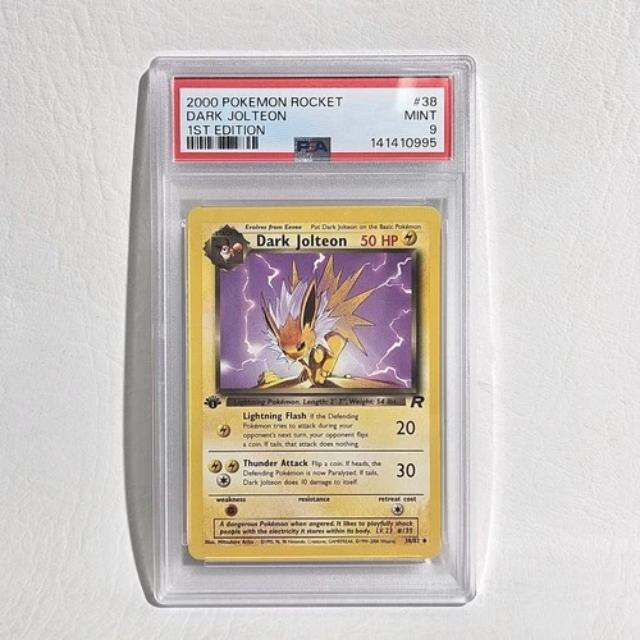Card: (182, 201, 449, 563)
Name: (248, 232, 351, 250)
